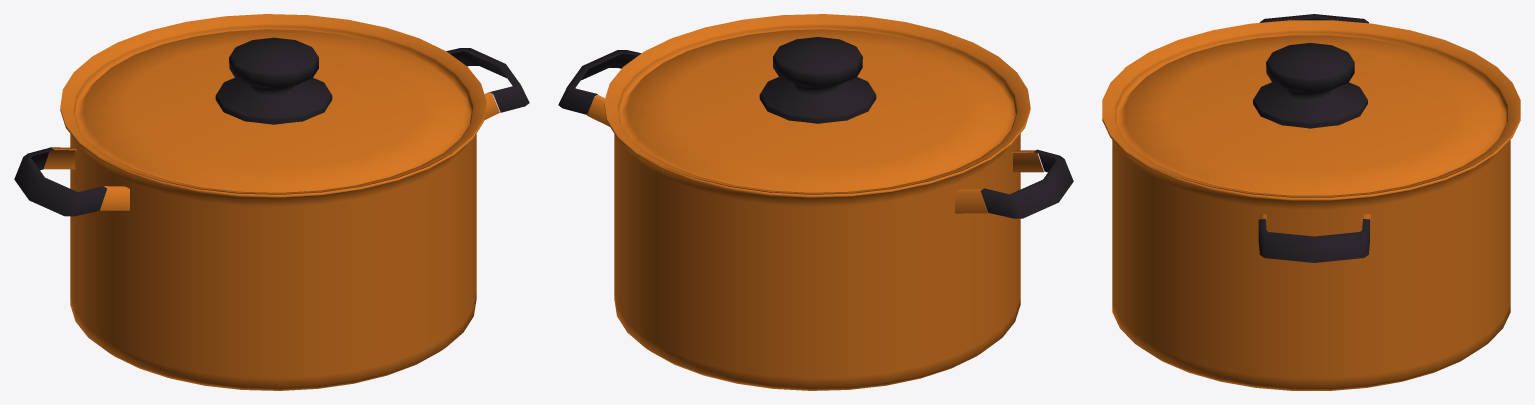
The model's file is Cooking_Pot.glb.
The picture shows the model from 3 angles, left to right: view 1: azimuth 30°, elevation 25°; view 2: azimuth 150°, elevation 25°; view 3: azimuth 270°, elevation 25°; orthographic projection.
Parts seen in each view (by area): view 1: huitugou_2062_441, huitugou_2062_442; view 2: huitugou_2062_441, huitugou_2062_442; view 3: huitugou_2062_441, huitugou_2062_442.
Boxes of the visible parts, x1,y1,x2,y2 form: huitugou_2062_441: [43, 14, 499, 390]; huitugou_2062_442: [14, 37, 529, 216]; huitugou_2062_441: [587, 14, 1043, 390]; huitugou_2062_442: [558, 37, 1073, 218]; huitugou_2062_441: [1102, 20, 1520, 390]; huitugou_2062_442: [1253, 14, 1369, 262].
Size of the model in its own units: 0.2287 by 0.1174 by 0.1731.
